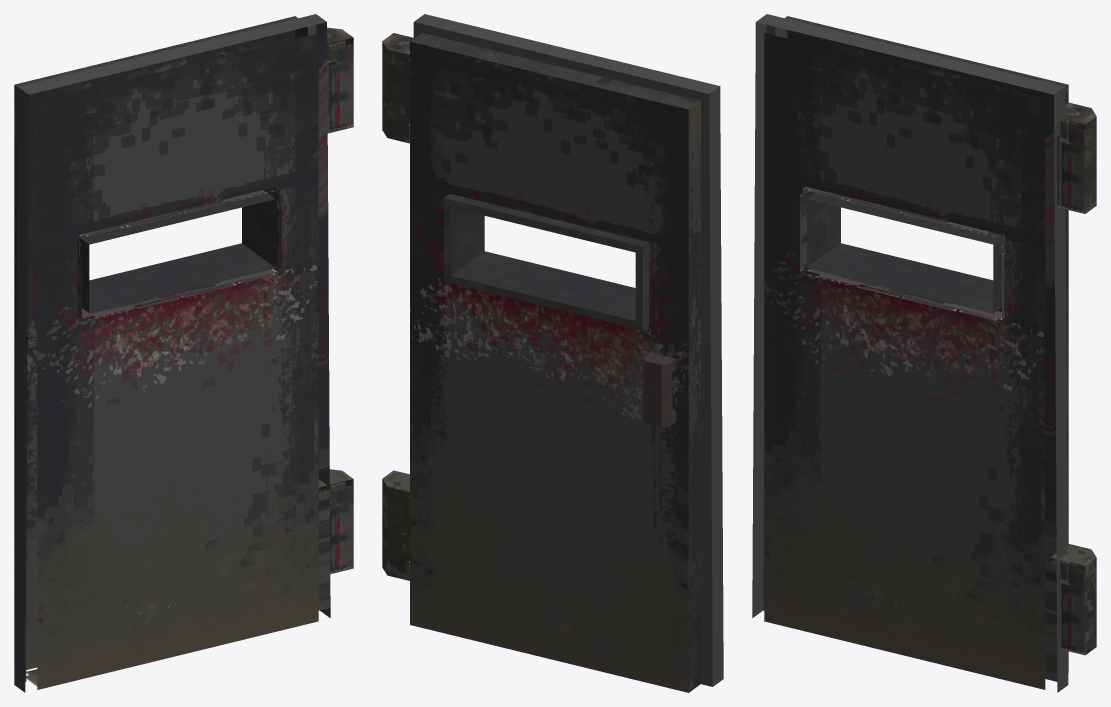
The model's file is Door.FBX.
3 renders of one model, left to right at view 1: azimuth 30°, elevation 25°; view 2: azimuth 150°, elevation 25°; view 3: azimuth 330°, elevation 25°, orthographic.
Parts seen in each view (by area): view 1: Door; view 2: Door; view 3: Door.
Part boxes in pixels (bbox=[...]): Door: bbox=[14, 14, 353, 692]; Door: bbox=[382, 14, 723, 692]; Door: bbox=[752, 14, 1096, 692].
Size of the model in its own units: 16.47 by 28.42 by 3.26.
Materials: 1 (1 with a texture image).
